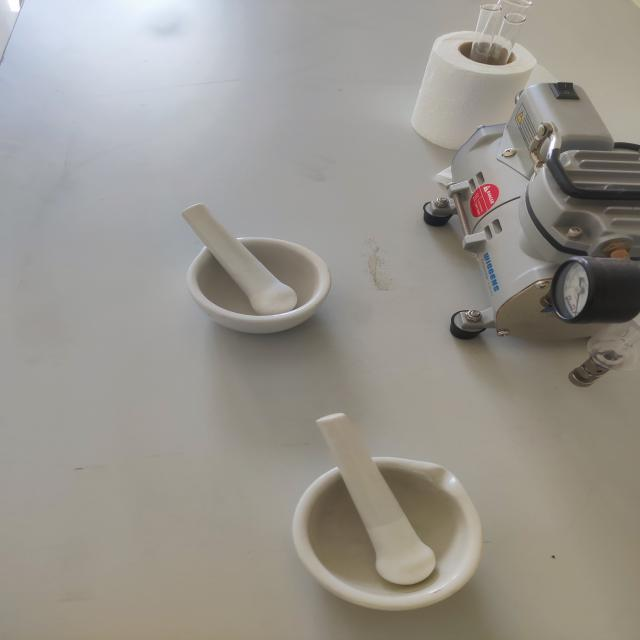Porcelain_Mortar Pestle: (252, 392, 514, 632), (148, 168, 360, 358)
